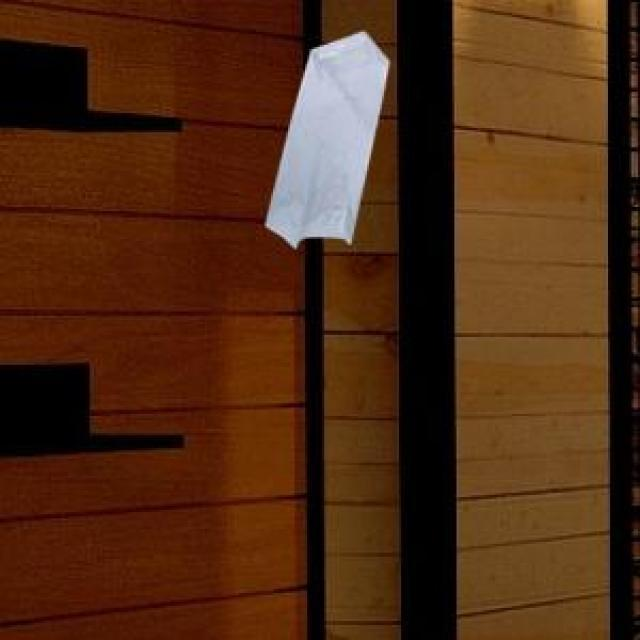waste: (265, 31, 390, 247)
